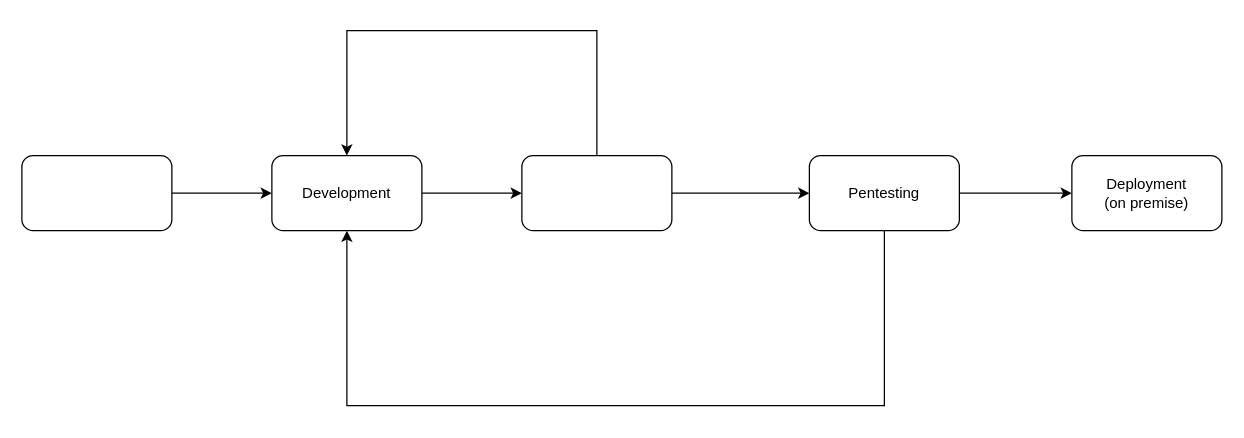
Image size: 1244x438. Some labels were removed from this diagram. Each missing label, with the centre of its shape:
"Design" belongs at pixel 96 192.
"Testing" belongs at pixel 596 192.
